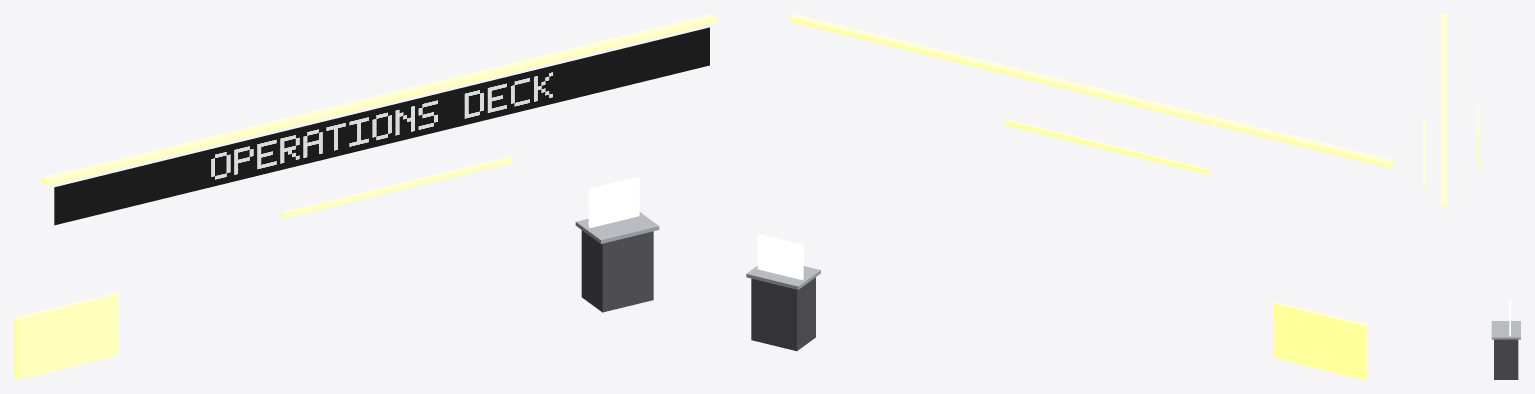
Rendered from room-s17-curable-blockchain-dao-4.glb.
3 renders of one model, left to right at view 1: azimuth 30°, elevation 25°; view 2: azimuth 150°, elevation 25°; view 3: azimuth 270°, elevation 25°, orthographic. The views are drawn at different scales.
Visible parts, largest first — view 1: Curable.Blockchain DAO Operations Deck room; view 2: Curable.Blockchain DAO Operations Deck room; view 3: Curable.Blockchain DAO Operations Deck room.
Part boxes in pixels (bbox=[...]): Curable.Blockchain DAO Operations Deck room: bbox=[14, 14, 717, 379]; Curable.Blockchain DAO Operations Deck room: bbox=[746, 14, 1394, 379]; Curable.Blockchain DAO Operations Deck room: bbox=[1423, 14, 1520, 379].
Size of the model in its own units: 9.2 by 4.08 by 2.
5 materials, 1 textured.
